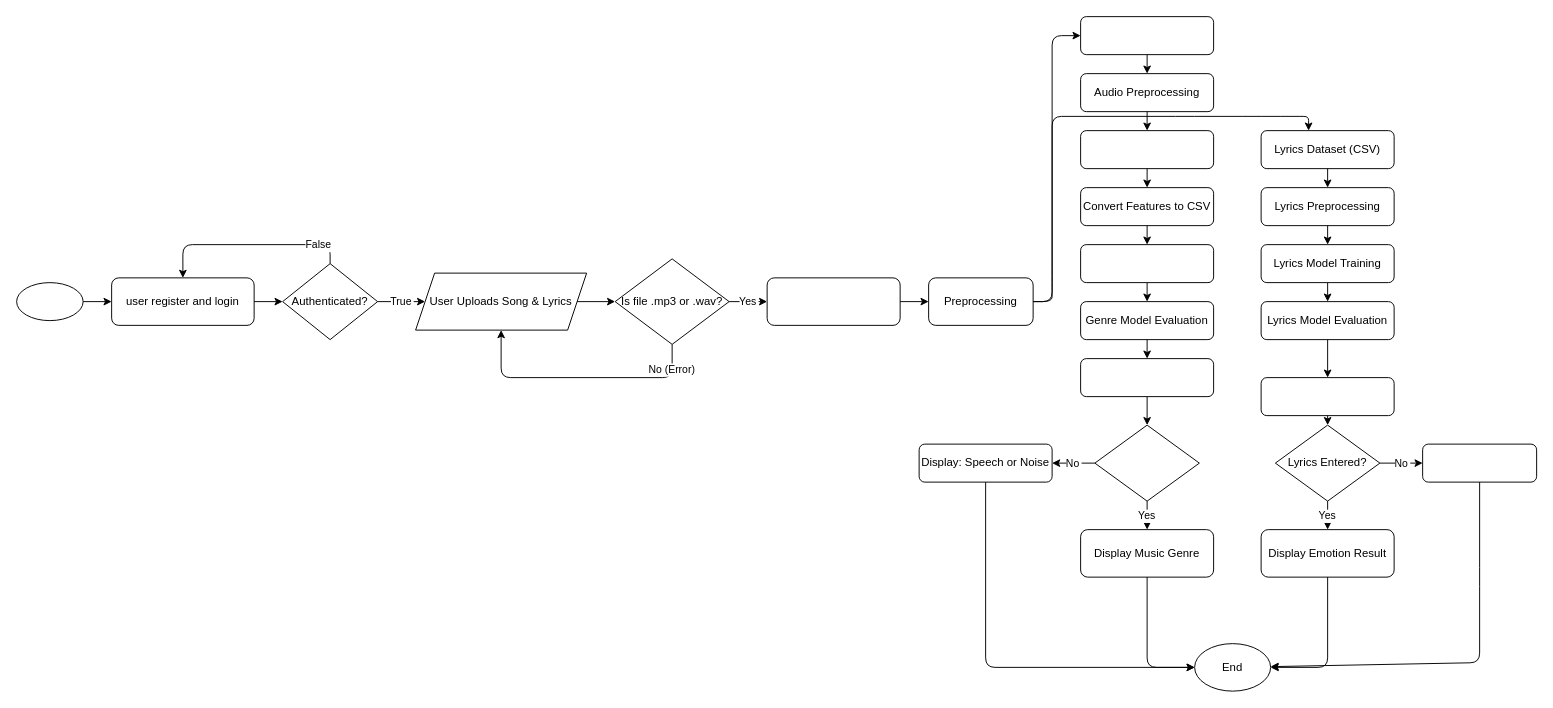
Some shapes in this 1553 by 708 pixel diagram are drawn without their labels. The shapes that lost their labels are listed below. From the top down, each one's box as (x1, y1, x2, y2) in pixels, then its label:
(1080, 16, 1214, 55): Audio Dataset
(1080, 130, 1214, 169): Feature Extraction
(1080, 244, 1214, 283): Genre Model Training
(16, 282, 83, 321): Start
(766, 277, 900, 325): Backend Receives Input
(1080, 358, 1214, 397): Genre Prediction
(1260, 377, 1394, 416): Lyrics Emotion Prediction
(1094, 424, 1199, 501): Is it Music?
(1422, 443, 1537, 482): Display: Not Empty
